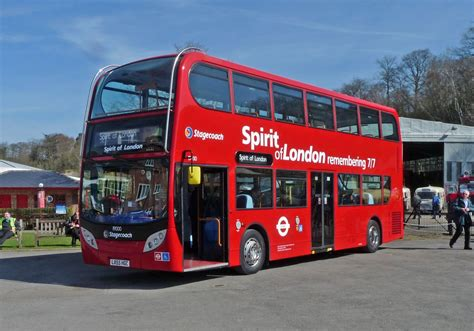bus: (90, 67, 404, 262)
